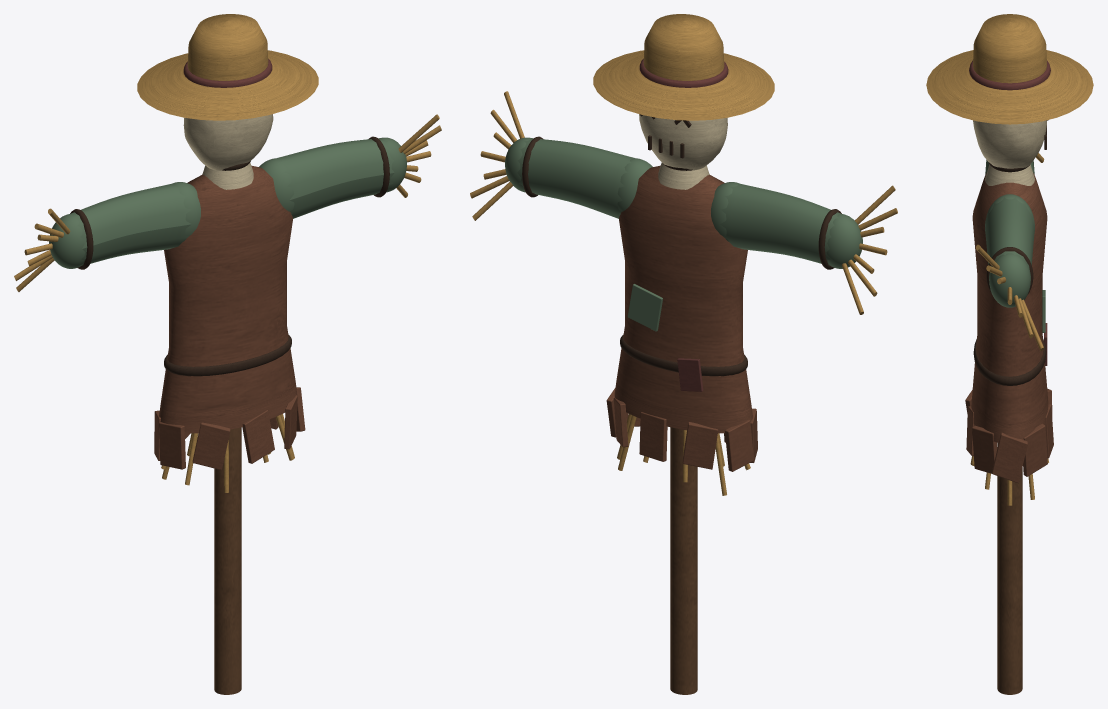
File: scarecrow.glb
3 renders of one model, left to right at view 1: azimuth 30°, elevation 25°; view 2: azimuth 150°, elevation 25°; view 3: azimuth 270°, elevation 25°, orthographic.
Visible parts, largest first — view 1: scarecrow; view 2: scarecrow; view 3: scarecrow.
Boxes of the visible parts, x1,y1,x2,y2 form: scarecrow: (14,14,441,694); scarecrow: (470,14,897,694); scarecrow: (926,14,1093,694).
Size of the model in its own units: 1.4 by 2.2 by 0.5.
Materials: 1 (1 with a texture image).
